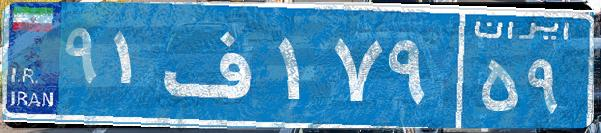1: (273, 28, 330, 110), (110, 28, 158, 105)
5: (475, 38, 525, 113)
7: (330, 28, 385, 110)
9: (385, 28, 445, 110), (57, 26, 110, 107), (525, 38, 570, 115)
ف: (158, 15, 273, 115)
